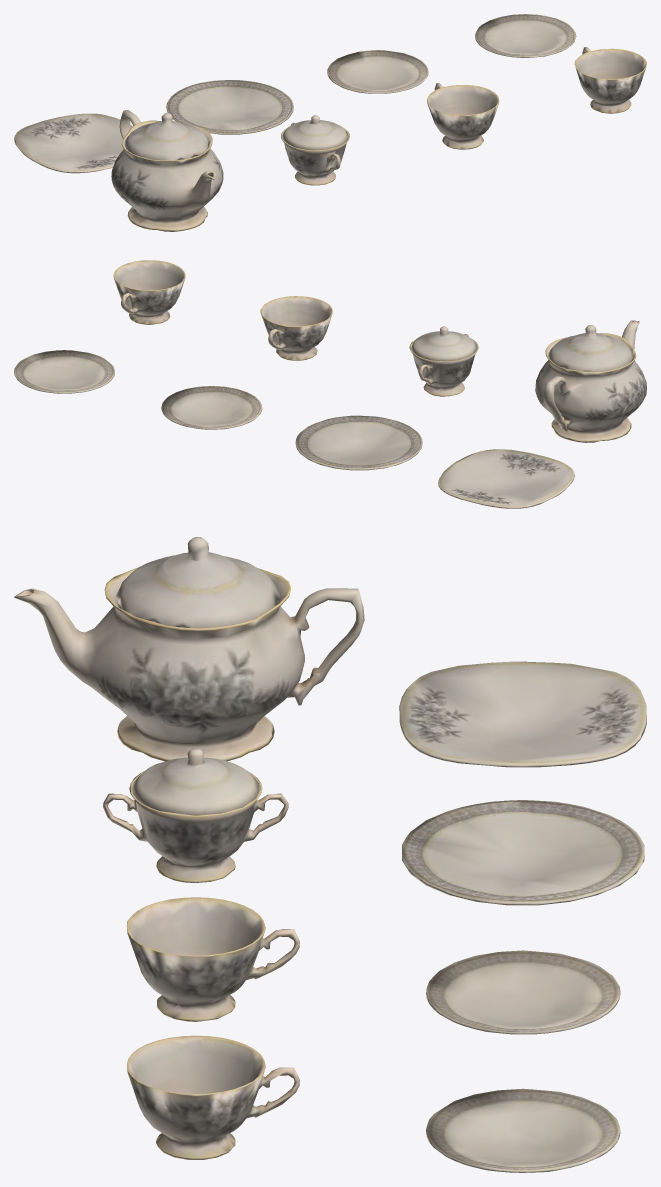
File: tea_set_01.glb
3 renders of one model, top to bottom at view 1: azimuth 30°, elevation 25°; view 2: azimuth 150°, elevation 25°; view 3: azimuth 270°, elevation 25°, orthographic. The views are drawn at different scales.
Visible parts, largest first — view 1: tea_set_01_plate_large_square_01; view 2: tea_set_01_plate_large_square_01; view 3: tea_set_01_plate_large_square_01.
Boxes of the visible parts, left/top/right/bottom form: tea_set_01_plate_large_square_01: left=14, top=14, right=646, bottom=231; tea_set_01_plate_large_square_01: left=14, top=260, right=646, bottom=508; tea_set_01_plate_large_square_01: left=14, top=537, right=646, bottom=1172.
Bounding box in the file's own units: 0.918 × 0.165 × 0.4835.
1 material, 1 textured.
